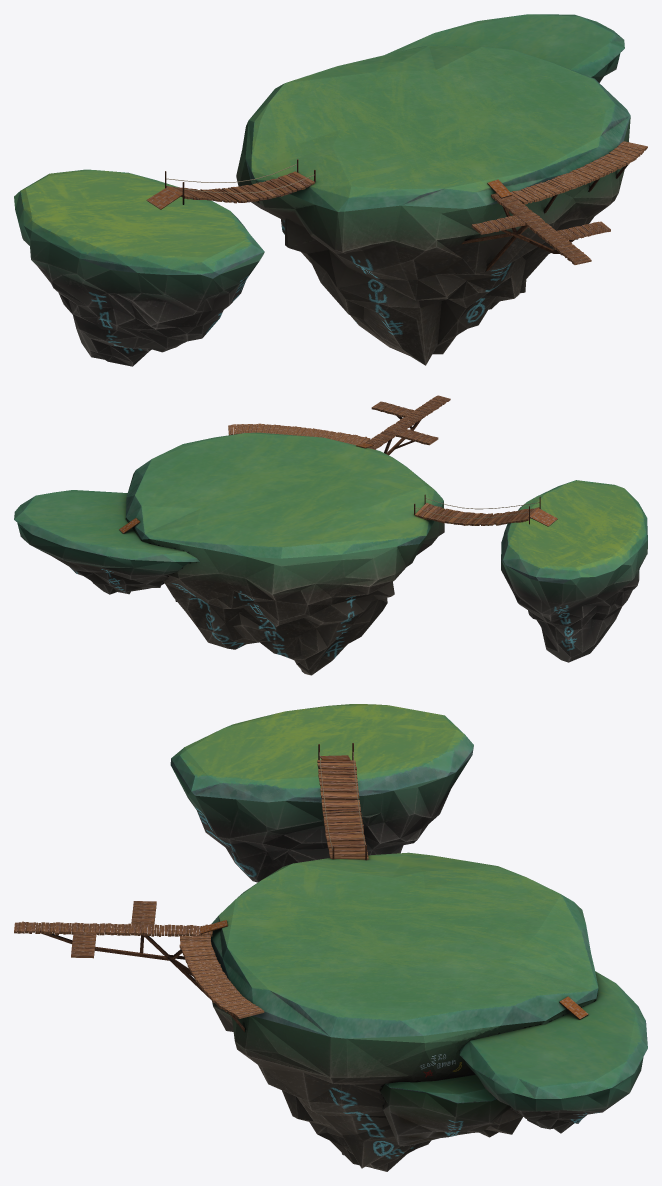
The model's file is floating_island.glb.
The picture shows the model from 3 angles, top to bottom: view 1: azimuth 30°, elevation 25°; view 2: azimuth 150°, elevation 25°; view 3: azimuth 270°, elevation 25°; orthographic projection. The views are drawn at different scales.
Parts seen in each view (by area): view 1: Main_island, Merchant_island, Mechanic_island, Texture_set_magenta, Texture_set_blue, Texture_set_orange; view 2: Main_island, Merchant_island, Mechanic_island, Texture_set_magenta, Texture_set_orange; view 3: Main_island, Merchant_island, Mechanic_island, Texture_set_magenta, Of_shoot_island, Texture_set_blue, Texture_set_orange.
Boxes of the visible parts, bbox=[...] form: Main_island: bbox=[236, 45, 630, 365]; Merchant_island: bbox=[14, 169, 264, 366]; Mechanic_island: bbox=[385, 14, 624, 82]; Texture_set_magenta: bbox=[166, 141, 647, 264]; Texture_set_blue: bbox=[165, 159, 627, 271]; Texture_set_orange: bbox=[146, 179, 512, 209]; Main_island: bbox=[125, 432, 444, 675]; Merchant_island: bbox=[501, 480, 647, 662]; Mechanic_island: bbox=[14, 490, 199, 594]; Texture_set_magenta: bbox=[228, 395, 539, 525]; Texture_set_orange: bbox=[119, 443, 557, 533]; Main_island: bbox=[211, 852, 598, 1171]; Merchant_island: bbox=[170, 704, 473, 882]; Mechanic_island: bbox=[459, 971, 647, 1133]; Texture_set_magenta: bbox=[14, 760, 368, 1018]; Of_shoot_island: bbox=[380, 1074, 511, 1146]; Texture_set_blue: bbox=[37, 743, 366, 1031]; Texture_set_orange: bbox=[199, 755, 588, 1019].
Bounding box in the file's own units: 172 × 63.95 × 128.
Materials: 12 (12 with a texture image).
